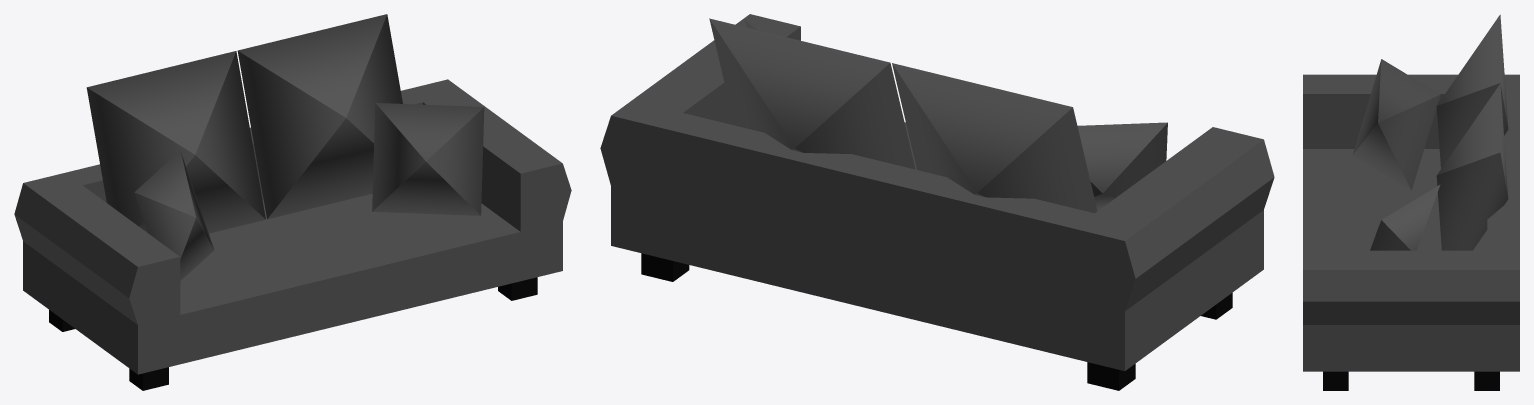
Rendered from sofa.FBX.
3 views of the same model, side by side, from view 1: azimuth 30°, elevation 25°; view 2: azimuth 150°, elevation 25°; view 3: azimuth 270°, elevation 25° (orthographic). The views are drawn at different scales.
Visible parts, largest first — view 1: sofa; view 2: sofa; view 3: sofa.
Boxes of the visible parts, x1,y1,x2,y2 form: sofa: (14, 14, 571, 390); sofa: (600, 14, 1274, 390); sofa: (1303, 14, 1519, 390).
Bounding box in the file's own units: 39.9 × 19.43 × 17.94.
